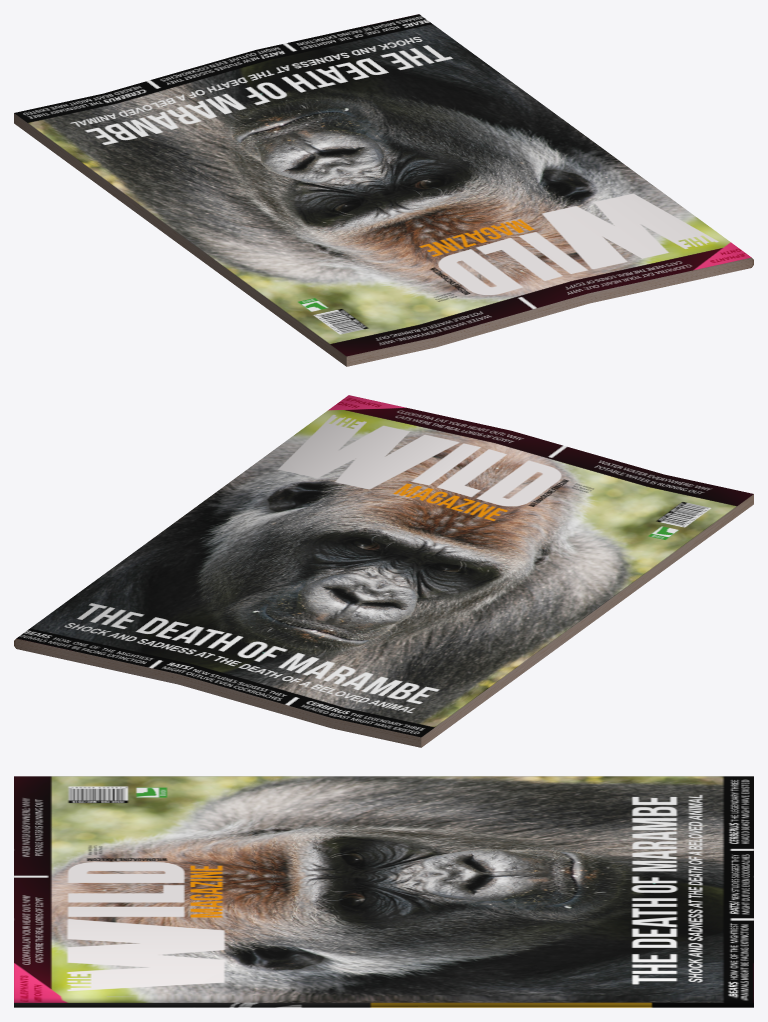
The model's file is ZeitschriftCurved.fbx.
3 renders of one model, top to bottom at view 1: azimuth 30°, elevation 25°; view 2: azimuth 150°, elevation 25°; view 3: azimuth 270°, elevation 25°, orthographic. The views are drawn at different scales.
Visible parts, largest first — view 1: ZeitschriftCurved; view 2: ZeitschriftCurved; view 3: ZeitschriftCurved.
Boxes of the visible parts, bbox=[...] form: ZeitschriftCurved: bbox=[14, 14, 753, 366]; ZeitschriftCurved: bbox=[14, 395, 753, 747]; ZeitschriftCurved: bbox=[14, 776, 753, 1007].
Bounding box in the file's own units: 0.21 × 0.00832 × 0.297.
